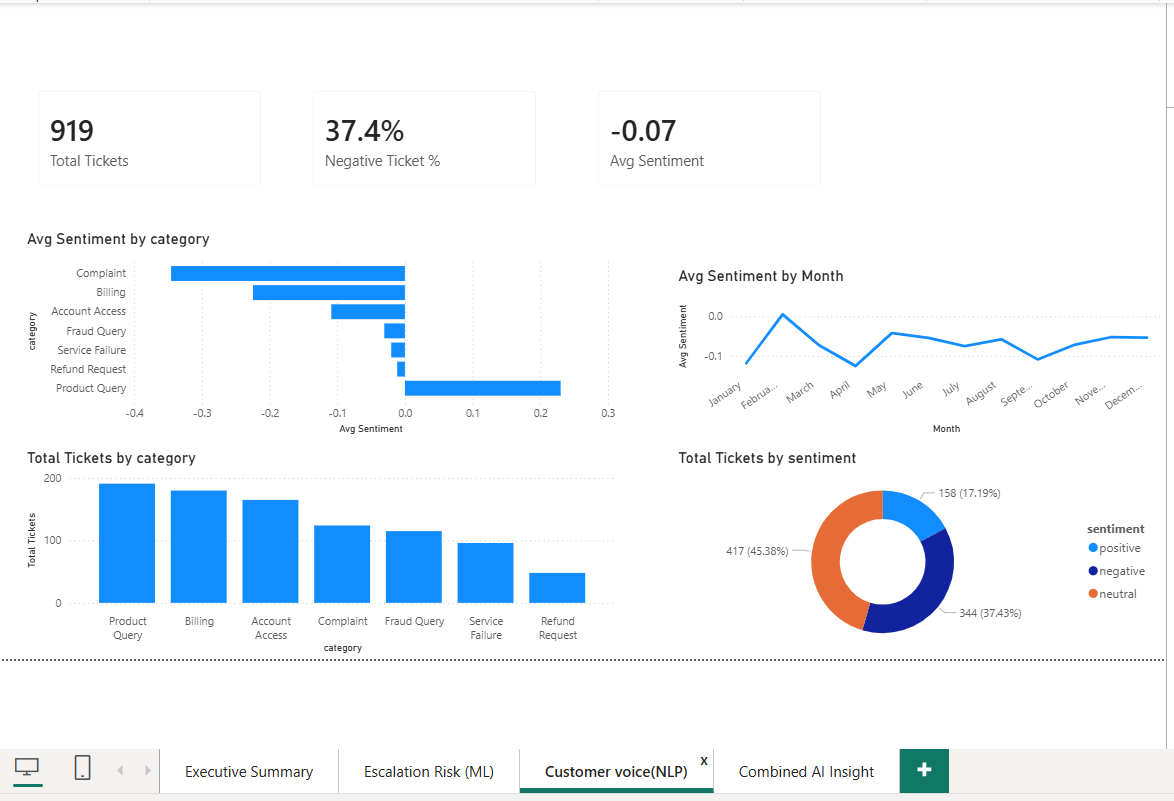

The dashboard page shown, as its layout file describes it:
{"tool":"powerbi","page":{"name":"Customer voice(NLP)","canvas":[1280,720],"ordinal":2},"visuals":[{"type":"cardVisual","fields":{"Data":["meridian_nlp_output.Total Tickets"]},"box":[24.7,79.6,279.9,140],"z":0},{"type":"cardVisual","fields":{"Data":["meridian_nlp_output.Negative Ticket %"]},"box":[326.6,79.6,279.9,140],"z":1000},{"type":"cardVisual","fields":{"Data":["meridian_nlp_output.Avg Sentiment"]},"box":[639.5,79.6,279.9,140],"z":2000},{"type":"clusteredBarChart","fields":{"Category":["meridian_nlp_output.category"],"Y":["meridian_nlp_output.Avg Sentiment"]},"box":[24.7,248.4,655.9,230.5],"z":3000},{"type":"lineChart","fields":{"Category":["meridian_nlp_output.ticket_date.Variation.Date Hierarchy.Month"],"Y":["meridian_nlp_output.Avg Sentiment"]},"box":[739.6,289.5,540.7,189.4],"z":4000},{"type":"clusteredColumnChart","fields":{"Category":["meridian_nlp_output.category"],"Y":["meridian_nlp_output.Total Tickets"]},"box":[25,489,656,231],"z":5000},{"type":"donutChart","fields":{"Category":["meridian_nlp_output.sentiment"],"Y":["meridian_nlp_output.Total Tickets"]},"box":[740,489,540,231],"z":6000}]}

Visuals, with their boxes on the page's 1280x720 design canvas (x1, y1, x2, y2). These are canvas units, not pixel positions in the 1174x801 screenshot, which may show the page scaled, cropped or inside an application window:
cardVisual - meridian_nlp_output.Total Tickets: 25 80 305 220
cardVisual - meridian_nlp_output.Negative Ticket %: 327 80 606 220
cardVisual - meridian_nlp_output.Avg Sentiment: 640 80 919 220
clusteredBarChart - meridian_nlp_output.category x meridian_nlp_output.Avg Sentiment: 25 248 681 479
lineChart - meridian_nlp_output.ticket_date.Variation.Date Hierarchy.Month x meridian_nlp_output.Avg Sentiment: 740 290 1280 479
clusteredColumnChart - meridian_nlp_output.category x meridian_nlp_output.Total Tickets: 25 489 681 720
donutChart - meridian_nlp_output.sentiment x meridian_nlp_output.Total Tickets: 740 489 1280 720
